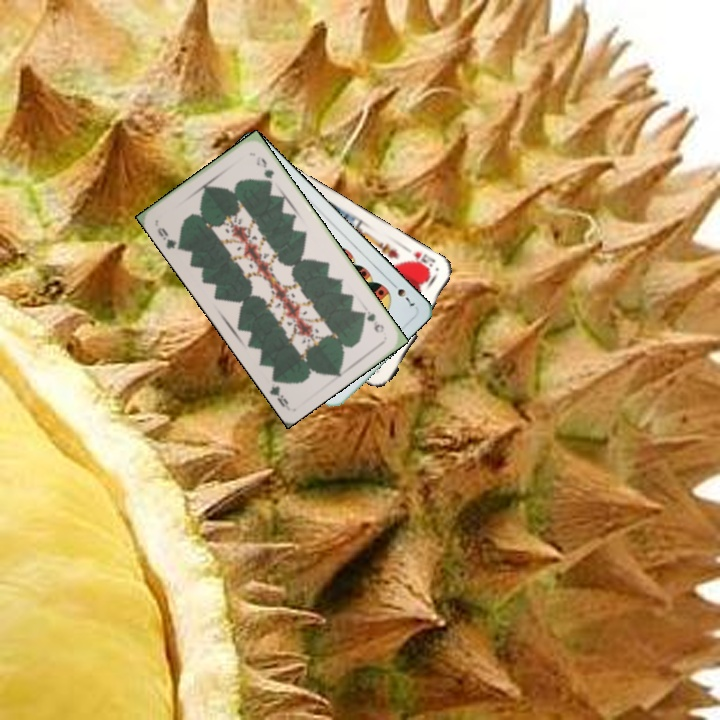G9: (153, 223, 186, 252), (358, 307, 387, 336)
HK: (407, 247, 438, 275)
S7: (386, 277, 418, 309)
